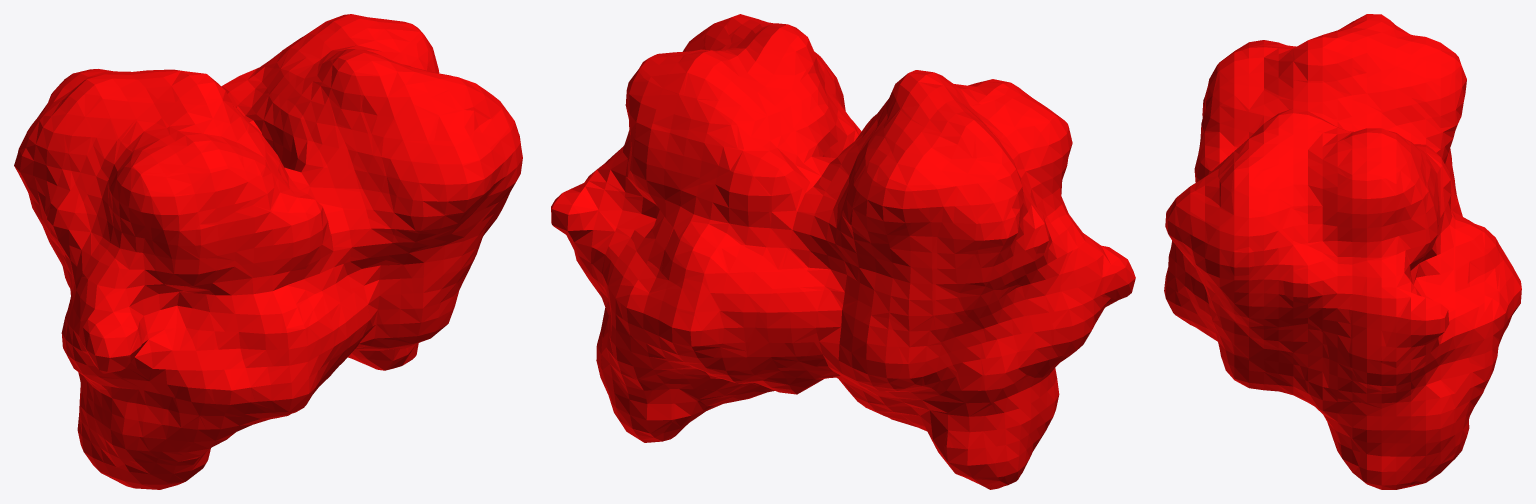
File: fucO_coarse.dae
The picture shows the model from 3 angles, left to right: view 1: azimuth 30°, elevation 25°; view 2: azimuth 150°, elevation 25°; view 3: azimuth 270°, elevation 25°; orthographic projection. The views are drawn at different scales.
Visible parts, largest first — view 1: fucO; view 2: fucO; view 3: fucO.
Boxes of the visible parts, x1=… form: fucO: x1=14, y1=14, x2=522, y2=489; fucO: x1=551, y1=14, x2=1135, y2=489; fucO: x1=1164, y1=14, x2=1521, y2=489.
Bounding box in the file's own units: 84.17 × 68.44 × 61.5.
